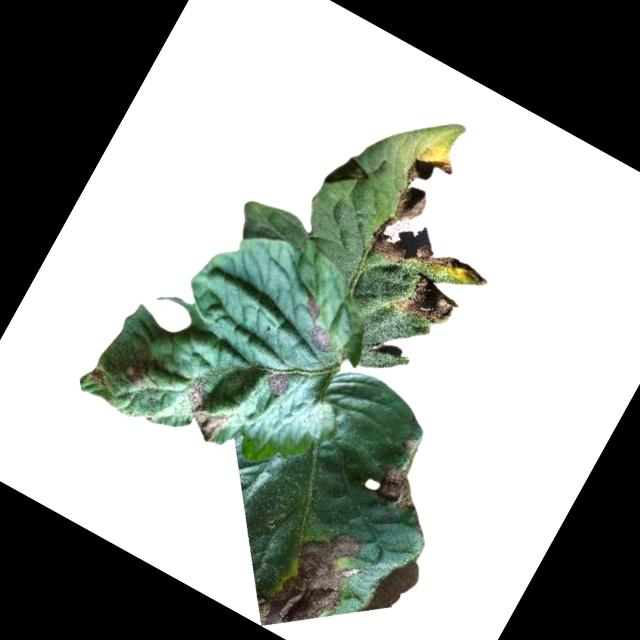Early_blight: (360, 134, 535, 306), (249, 510, 373, 640), (388, 266, 465, 338), (172, 378, 242, 448), (365, 453, 432, 518), (288, 294, 351, 355), (114, 351, 157, 393), (262, 364, 295, 399), (87, 364, 109, 386)
